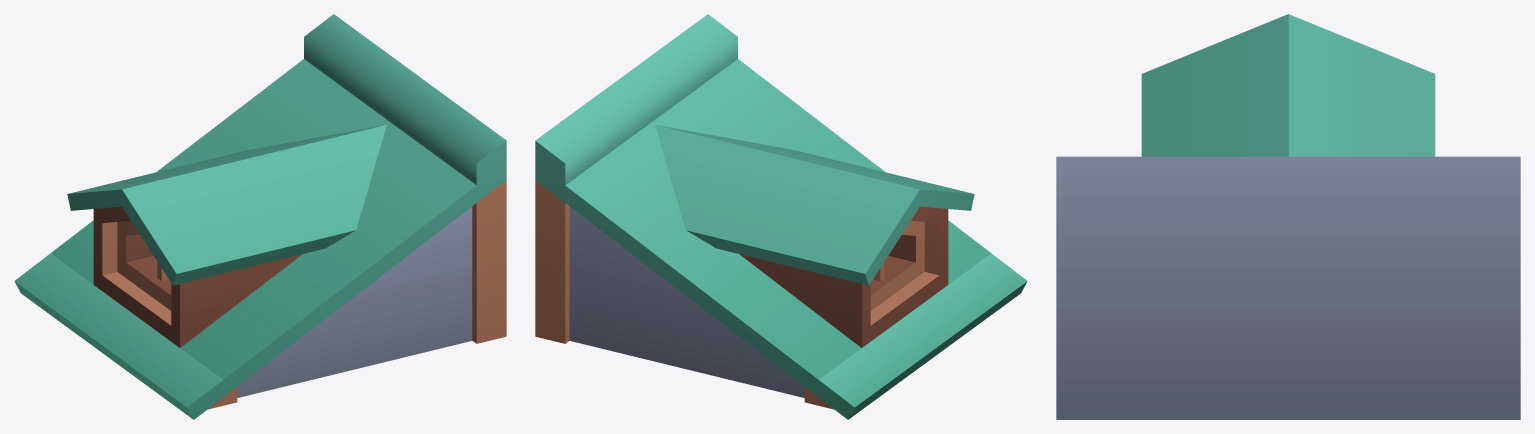
File: roof-window.glb
The picture shows the model from 3 angles, left to right: view 1: azimuth 30°, elevation 25°; view 2: azimuth 150°, elevation 25°; view 3: azimuth 270°, elevation 25°; orthographic projection. The views are drawn at different scales.
Visible parts, largest first — view 1: roof-window; view 2: roof-window; view 3: roof-window.
Part boxes in pixels (x1,y1,x2,y2): roof-window: (14,14,506,419); roof-window: (535,14,1027,419); roof-window: (1056,14,1520,419).
Size of the model in its own units: 1.07 by 0.6483 by 1.
Materials: 1 (1 with a texture image).
